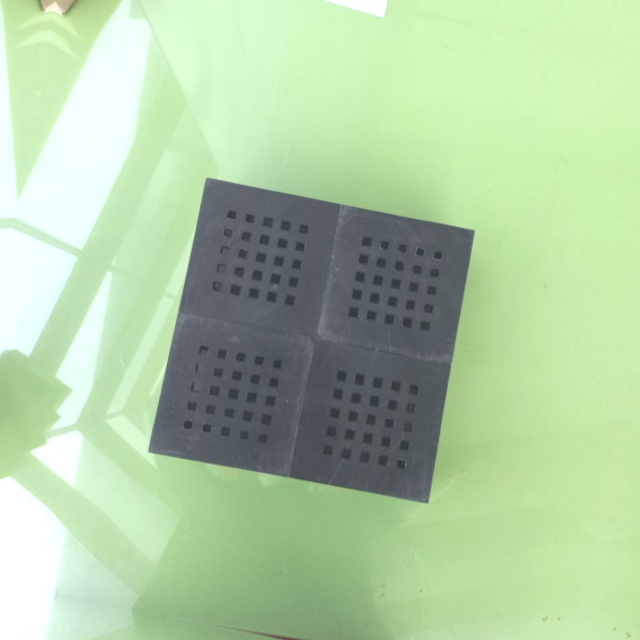pallet: (137, 170, 485, 517)
